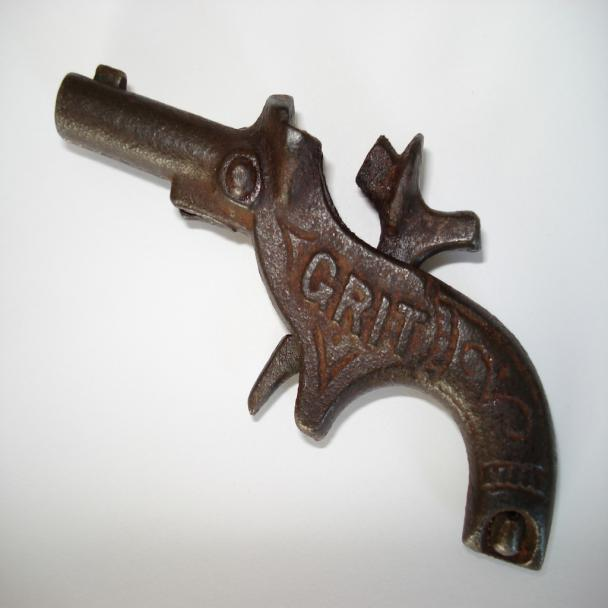Gun: (48, 59, 556, 574)
